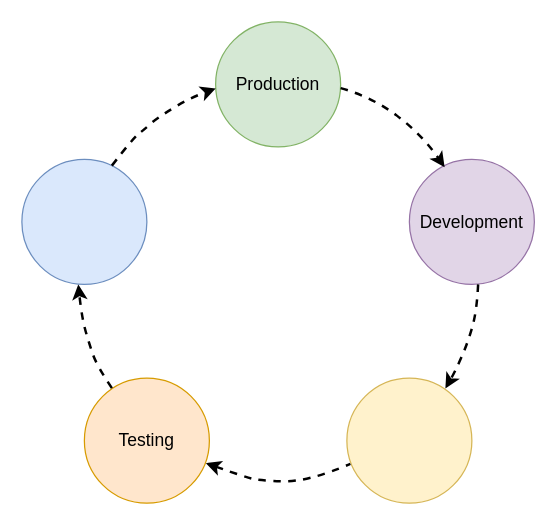
The diagram is 556 pixels wide and 525 high, and some of its shapes have lost their labels. Here are the shapes that lost their labels. From the top down, the box of each, then its label:
(21, 158, 147, 284): Staging
(346, 377, 472, 503): Features
